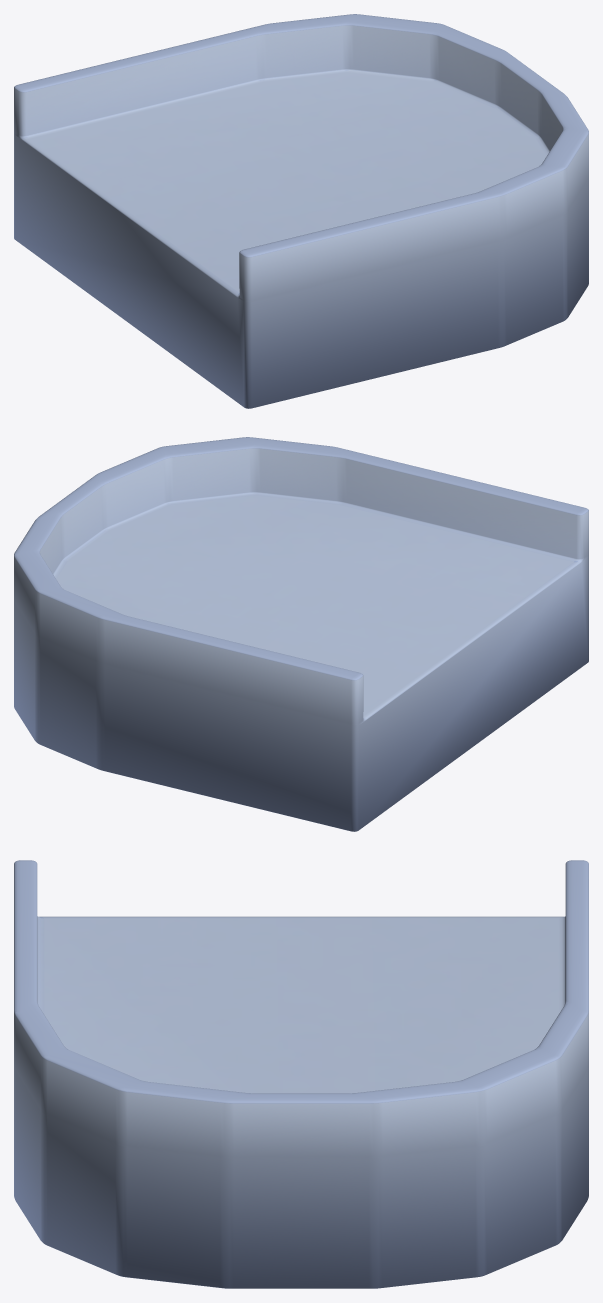
Rendered from Finish 1.fbx.
The picture shows the model from 3 angles, top to bottom: view 1: azimuth 30°, elevation 25°; view 2: azimuth 150°, elevation 25°; view 3: azimuth 270°, elevation 25°; orthographic projection. The views are drawn at different scales.
Visible parts, largest first — view 1: Finish; view 2: Finish; view 3: Finish.
Part boxes in pixels (x1,y1,x2,y2): Finish: (14,14,588,408); Finish: (14,437,588,831); Finish: (14,860,588,1288).
Size of the model in its own units: 3.96 by 1.43 by 3.96.
Materials: 1 (1 with a texture image).
